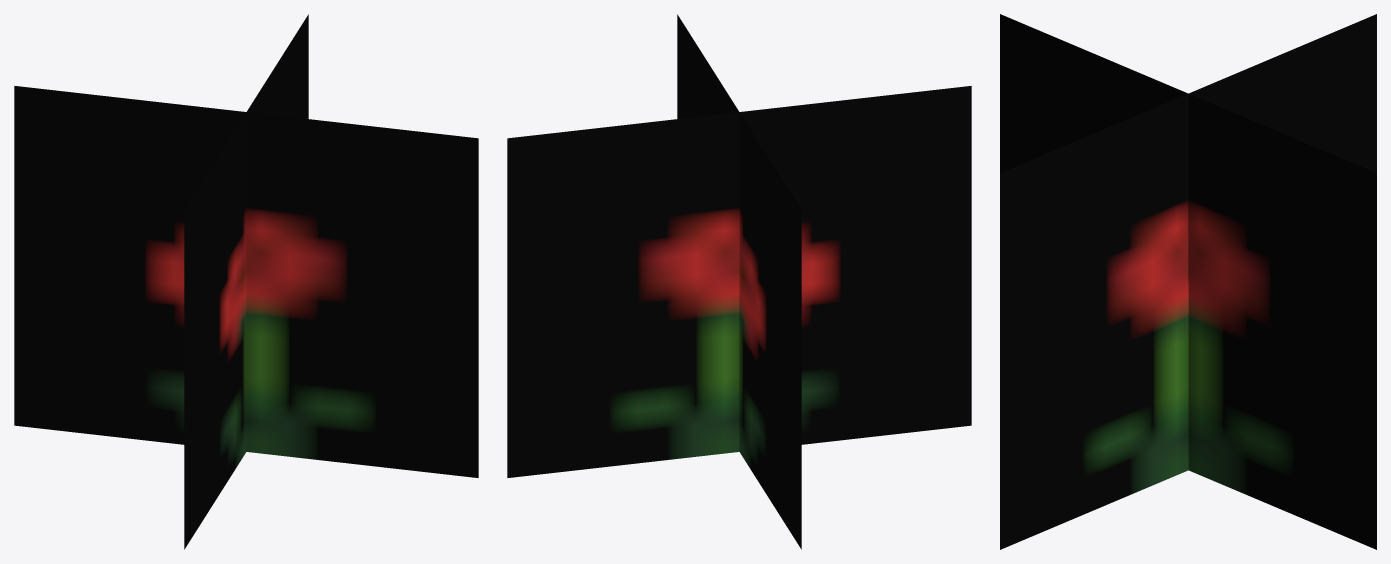
Rendered from flower4.fbx.
3 renders of one model, left to right at view 1: azimuth 30°, elevation 25°; view 2: azimuth 150°, elevation 25°; view 3: azimuth 270°, elevation 25°, orthographic. The views are drawn at different scales.
Parts seen in each view (by area): view 1: flower4; view 2: flower4; view 3: flower4.
Boxes of the visible parts, box(x1,y1,x2,y2) form: flower4: box(14, 14, 478, 549); flower4: box(507, 14, 971, 549); flower4: box(1000, 14, 1376, 549).
Size of the model in its own units: 2.99 by 3.29 by 2.99.
